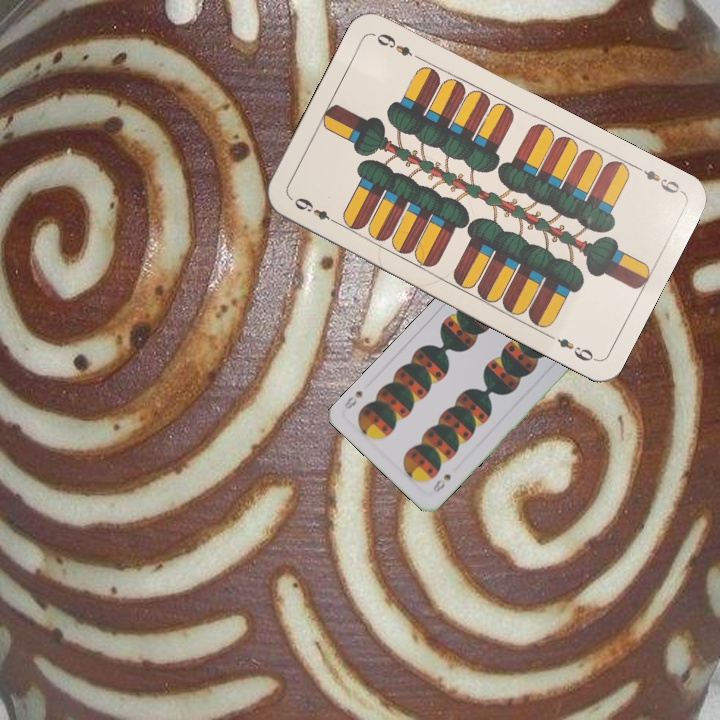E9: (630, 161, 685, 197), (290, 193, 342, 228)
S8: (429, 470, 453, 495)
